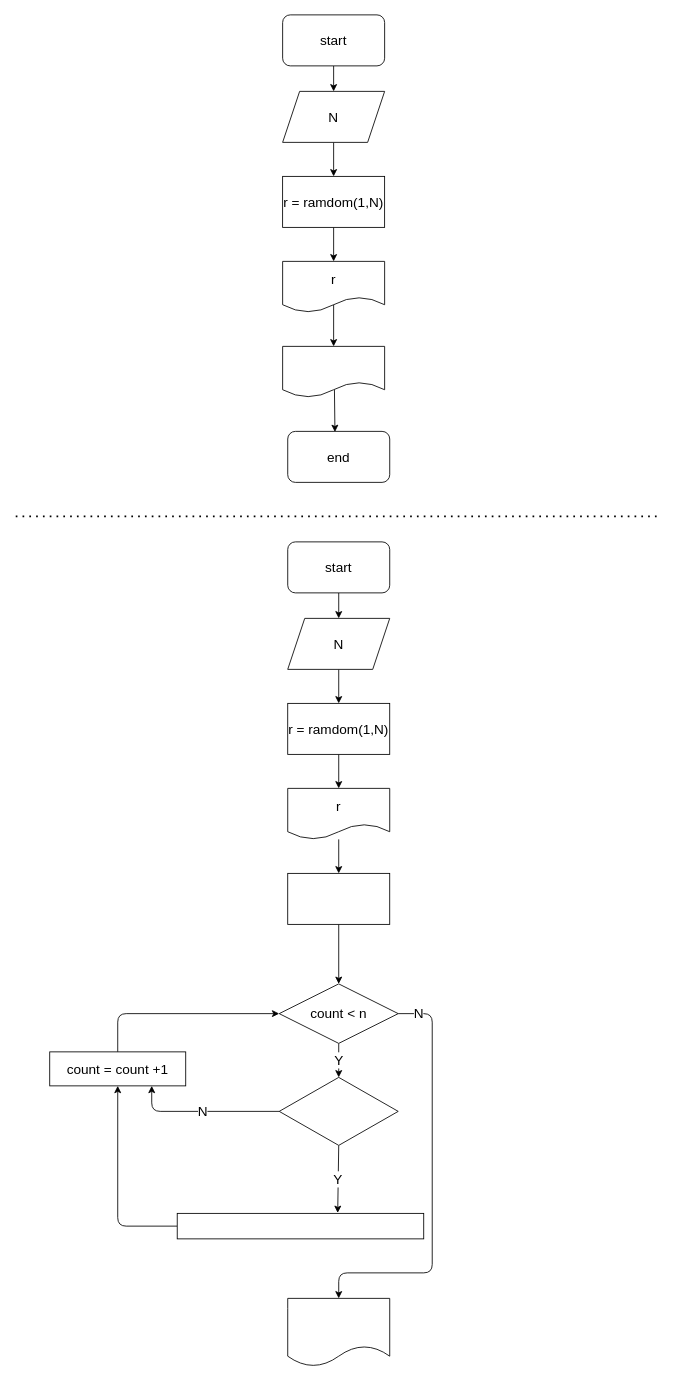
Image size: 677x1381. Some labels were removed from this diagram. The shapes that lost their labels are listed below. From the top down, each one's centre as x and y in pixels, then its label:
At [333,371]: "math.pow(r,2)".
At [338,898]: "count = 0 array.even [ ]".
At [338,1111]: "count == even".
At [300,1226]: "array.even [ = array.even [ + count]".
At [338,1332]: "array".
